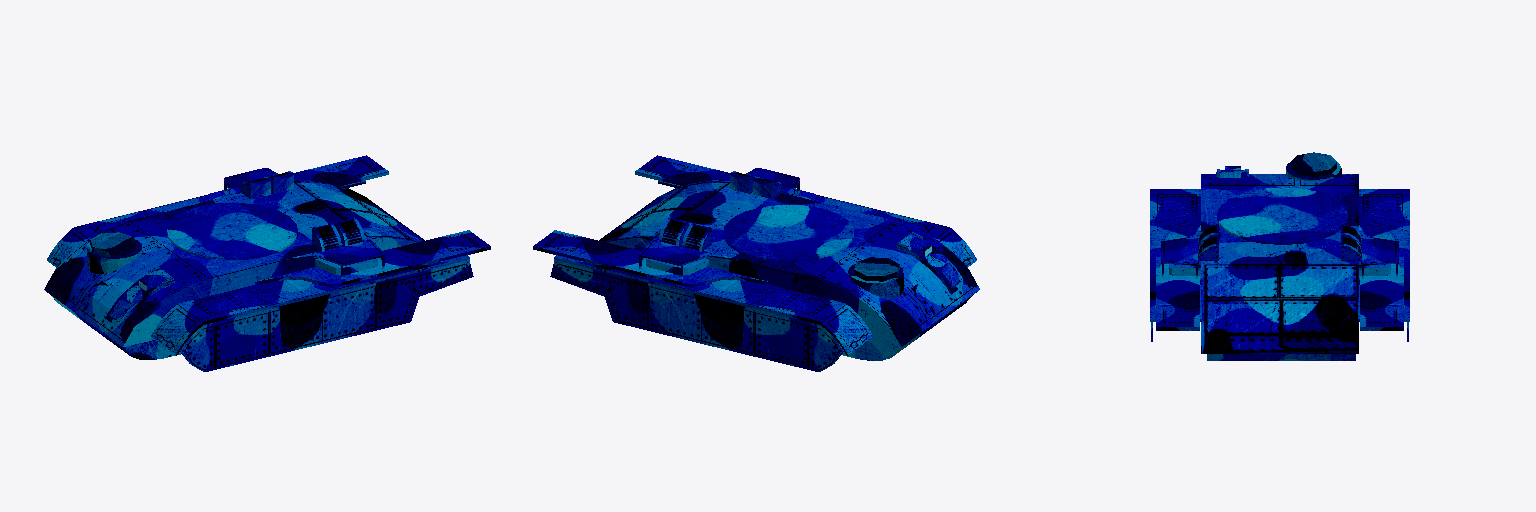
3 views of the same model, side by side, from view 1: azimuth 30°, elevation 25°; view 2: azimuth 150°, elevation 25°; view 3: azimuth 270°, elevation 25° (orthographic).
Visible parts, largest first — view 1: body_Cube.002, left_side_Cube.004, right_side_Cube.005, font02_Cylinder, front01_Cube.003; view 2: body_Cube.002, right_side_Cube.005, left_side_Cube.004, font02_Cylinder, front01_Cube.003; view 3: body_Cube.002, right_side_Cube.005, left_side_Cube.004, font02_Cylinder.
Boxes of the visible parts, box(x1,y1,x2,y2) form: body_Cube.002: box(44, 180, 424, 359); left_side_Cube.004: box(151, 217, 490, 371); right_side_Cube.005: box(47, 155, 388, 267); font02_Cylinder: box(87, 232, 141, 273); front01_Cube.003: box(105, 266, 174, 328); body_Cube.002: box(599, 180, 979, 360); right_side_Cube.005: box(533, 217, 873, 371); left_side_Cube.004: box(635, 155, 976, 267); font02_Cylinder: box(848, 257, 903, 298); front01_Cube.003: box(896, 232, 965, 294); body_Cube.002: box(1201, 174, 1358, 360); right_side_Cube.005: box(1341, 189, 1409, 341); left_side_Cube.004: box(1150, 189, 1218, 341); font02_Cylinder: box(1286, 152, 1341, 180).
Size of the model in its own units: 10.01 by 2.45 by 6.5.
Materials: 1 (1 with a texture image).